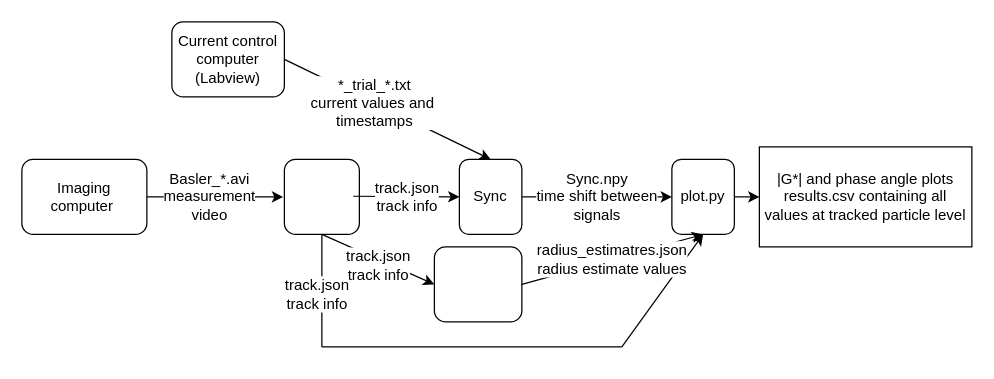
Some shapes in this 994 by 379 pixel diagram are drawn without their labels. The centre of each missing label's shape, as x and y in pixels:
"radius.py" goes at (477,284).
"Track.py" goes at (321,196).
